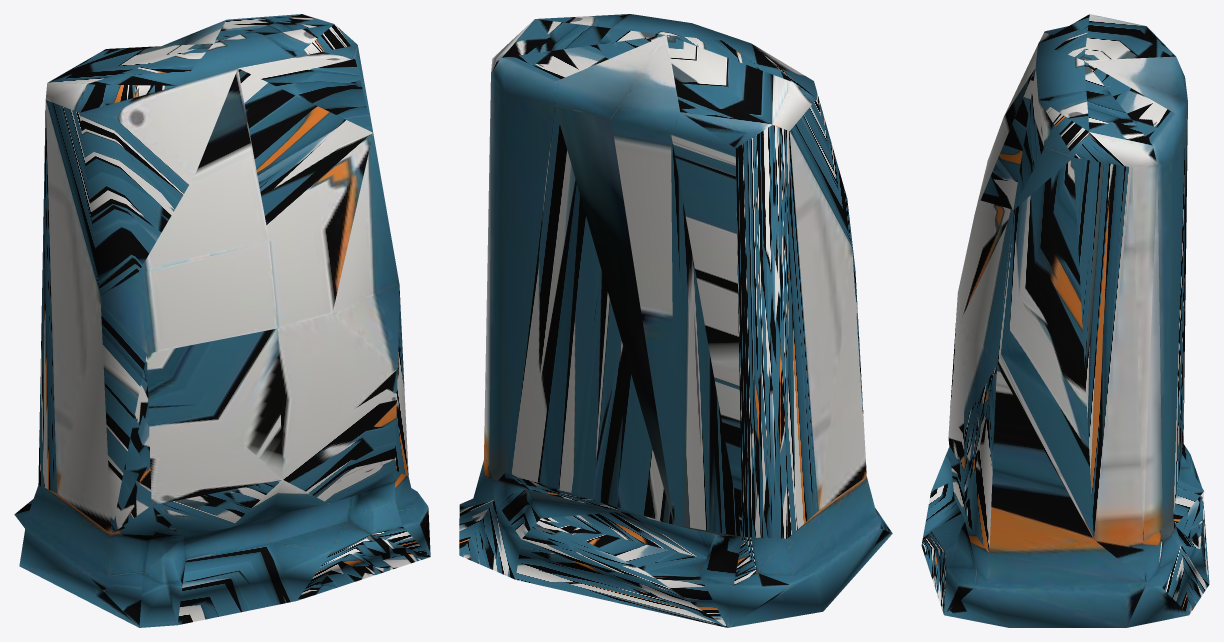
Rendered from rocket_panel-lod1.a3fa0b46c9f6.glb.
3 renders of one model, left to right at view 1: azimuth 30°, elevation 25°; view 2: azimuth 150°, elevation 25°; view 3: azimuth 270°, elevation 25°, orthographic. The views are drawn at different scales.
Visible parts, largest first — view 1: geometry_0; view 2: geometry_0; view 3: geometry_0.
Boxes of the visible parts, x1=… form: geometry_0: x1=14, y1=14, x2=430, y2=627; geometry_0: x1=459, y1=14, x2=892, y2=627; geometry_0: x1=921, y1=14, x2=1209, y2=627.
Size of the model in its own units: 0.6899 by 0.9502 by 0.5112.
Materials: 1 (1 with a texture image).
